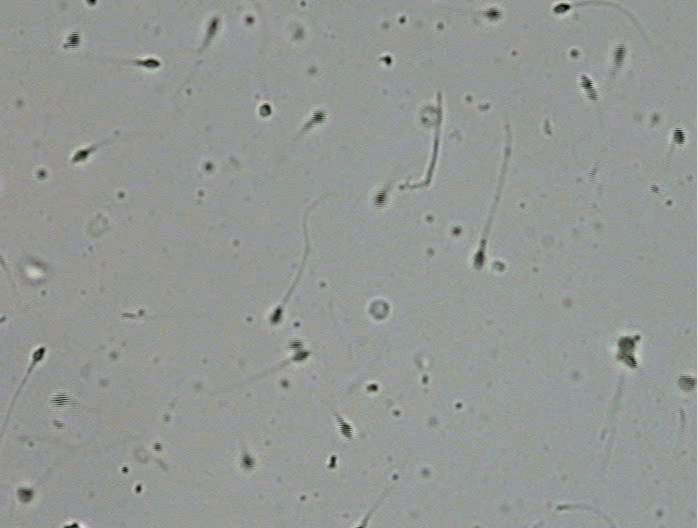Impurity: (368, 299, 390, 320)
S: (617, 336, 635, 360), (337, 418, 353, 439), (580, 75, 595, 96), (50, 393, 70, 407), (65, 32, 81, 48), (678, 376, 695, 391), (474, 249, 485, 270), (17, 488, 33, 502), (374, 190, 387, 207), (614, 45, 625, 65), (240, 455, 254, 470), (207, 18, 218, 37), (484, 8, 501, 20), (673, 128, 685, 145), (553, 3, 571, 14), (311, 110, 325, 124), (32, 347, 45, 362), (291, 351, 310, 361), (139, 59, 160, 68), (271, 307, 282, 324), (259, 103, 272, 117), (624, 355, 638, 368), (73, 150, 89, 161), (289, 339, 301, 349), (87, 1, 96, 6), (356, 524, 365, 528)
